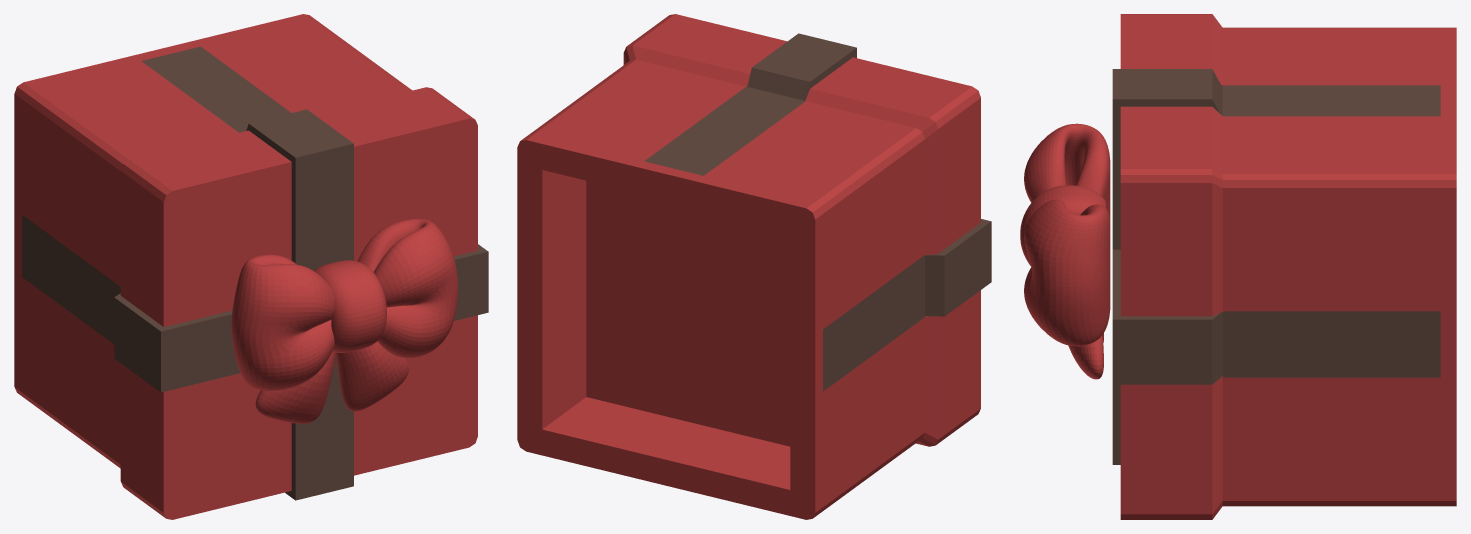
File: cap_gift.glb
3 views of the same model, side by side, from view 1: azimuth 30°, elevation 25°; view 2: azimuth 150°, elevation 25°; view 3: azimuth 270°, elevation 25° (orthographic). The views are drawn at different scales.
Visible parts, largest first — view 1: Cube.112; view 2: Cube.112; view 3: Cube.112.
Boxes of the visible parts, left/top/right/bottom form: Cube.112: left=14, top=14, right=488, bottom=519; Cube.112: left=517, top=14, right=991, bottom=519; Cube.112: left=1020, top=14, right=1456, bottom=519.
Size of the model in its own units: 19.8 by 19.8 by 21.44.
